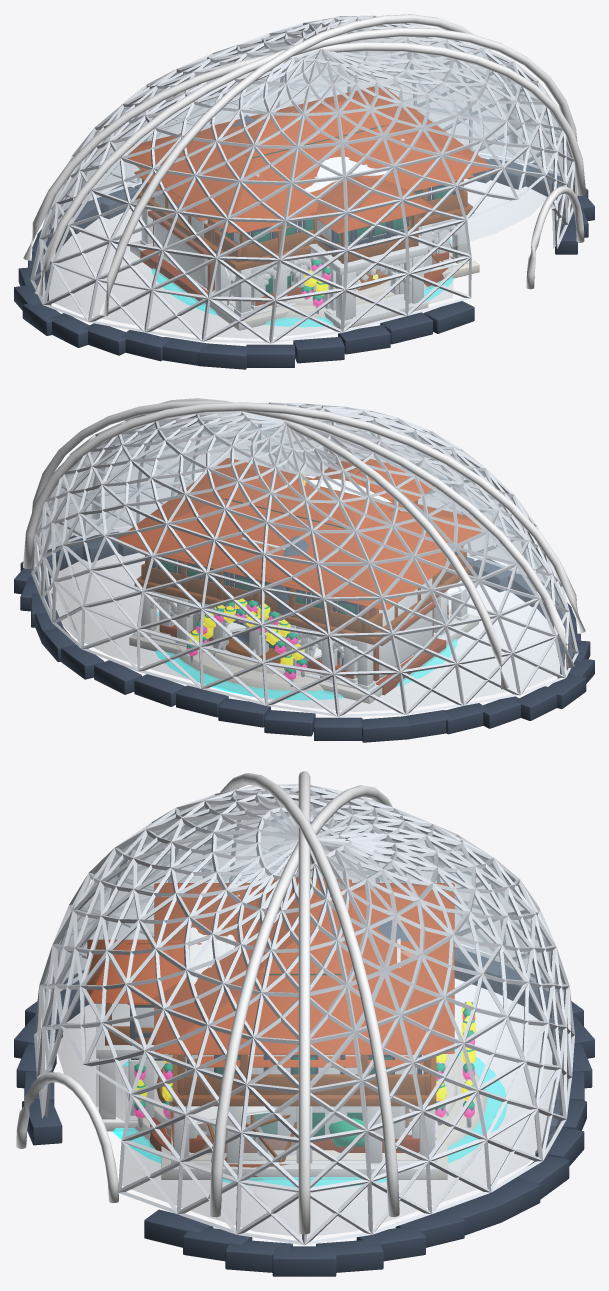
Rendered from sbg_buildings_landmarks.glb.
3 renders of one model, top to bottom at view 1: azimuth 30°, elevation 25°; view 2: azimuth 150°, elevation 25°; view 3: azimuth 270°, elevation 25°, orthographic. The views are drawn at different scales.
Visible parts, largest first — view 1: SBG_CoolHouse_GlassDome, SBG_CoolHouse_DiagridSteel, SBG_Burkill_TerracottaRoof, SBG_CoolHouse_PrimaryArches, SBG_CoolHouse_WaterfallPlinth, SBG_Burkill_WhiteStucco, SBG_Burkill_TeakVerandah, SBG_Atbara_WhiteStucco, SBG_Holttum_MuseumStucco, SBG_Holttum_BrickPilasters, SBG_SymphonyStage_LakeRim, SBG_Atbara_BlackTimberFrame (+4 smaller); view 2: SBG_CoolHouse_GlassDome, SBG_CoolHouse_DiagridSteel, SBG_CoolHouse_WaterfallPlinth, SBG_Burkill_TerracottaRoof, SBG_CoolHouse_PrimaryArches, SBG_Burkill_TeakVerandah, SBG_Burkill_WhiteStucco, SBG_SymphonyStage_StoneApron, SBG_SymphonyStage_LakeRim, SBG_Holttum_MuseumStucco, SBG_Atbara_WhiteStucco, SBG_Holttum_BrickPilasters (+8 smaller); view 3: SBG_CoolHouse_DiagridSteel, SBG_CoolHouse_GlassDome, SBG_Burkill_TerracottaRoof, SBG_CoolHouse_WaterfallPlinth, SBG_CoolHouse_PrimaryArches, SBG_Burkill_WhiteStucco, SBG_Burkill_TeakVerandah, SBG_SymphonyStage_LakeRim, SBG_Atbara_WhiteStucco, SBG_SymphonyStage_StoneApron, SBG_Holttum_RotundaGlass, SBG_SymphonyStage_ClamshellCanopy (+6 smaller).
Boxes of the visible parts, x1,y1,x2,y2 form: SBG_CoolHouse_GlassDome: (36,22,571,338); SBG_CoolHouse_DiagridSteel: (30,15,577,343); SBG_Burkill_TerracottaRoof: (127,86,492,233); SBG_CoolHouse_PrimaryArches: (23,14,585,316); SBG_CoolHouse_WaterfallPlinth: (14,115,594,369); SBG_Burkill_WhiteStucco: (134,209,475,328); SBG_Burkill_TeakVerandah: (135,179,473,270); SBG_Atbara_WhiteStucco: (168,187,468,316); SBG_Holttum_MuseumStucco: (154,189,207,288); SBG_Holttum_BrickPilasters: (140,210,448,300); SBG_SymphonyStage_LakeRim: (151,239,453,327); SBG_Atbara_BlackTimberFrame: (219,181,456,256); SBG_CoolHouse_GlassDome: (36,414,572,711); SBG_CoolHouse_DiagridSteel: (31,402,578,716); SBG_CoolHouse_WaterfallPlinth: (14,529,594,742); SBG_Burkill_TerracottaRoof: (117,458,481,606); SBG_CoolHouse_PrimaryArches: (23,398,585,689); SBG_Burkill_TeakVerandah: (134,500,473,644); SBG_Burkill_WhiteStucco: (133,585,474,691); SBG_SymphonyStage_StoneApron: (175,645,329,690); SBG_SymphonyStage_LakeRim: (155,612,457,700); SBG_Holttum_MuseumStucco: (379,578,432,677); SBG_Atbara_WhiteStucco: (140,558,460,690); SBG_Holttum_BrickPilasters: (199,601,446,694); SBG_CoolHouse_DiagridSteel: (34,783,574,1245); SBG_CoolHouse_GlassDome: (44,793,564,1236); SBG_Burkill_TerracottaRoof: (87,877,454,1053); SBG_CoolHouse_WaterfallPlinth: (14,920,594,1276); SBG_CoolHouse_PrimaryArches: (16,771,406,1234); SBG_Burkill_WhiteStucco: (96,1003,437,1179); SBG_Burkill_TeakVerandah: (105,1003,436,1106); SBG_SymphonyStage_LakeRim: (113,1049,507,1187); SBG_Atbara_WhiteStucco: (121,1007,437,1164); SBG_SymphonyStage_StoneApron: (125,1054,486,1155); SBG_Holttum_RotundaGlass: (163,1096,296,1160); SBG_SymphonyStage_ClamshellCanopy: (188,927,411,1124).
Bounding box in the file's own units: 25.31 × 10.54 × 17.85.
